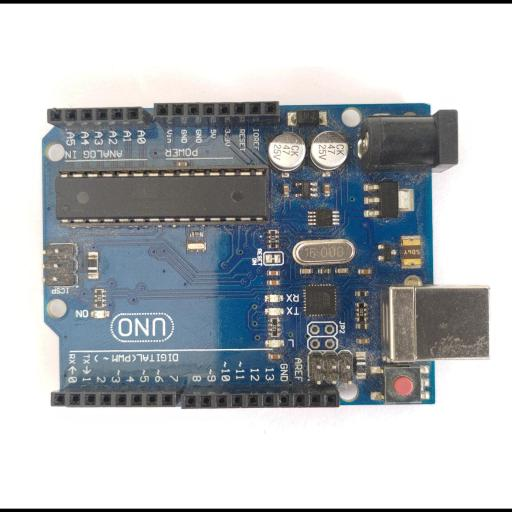Arduino Uno R3: (40, 100, 488, 410)
